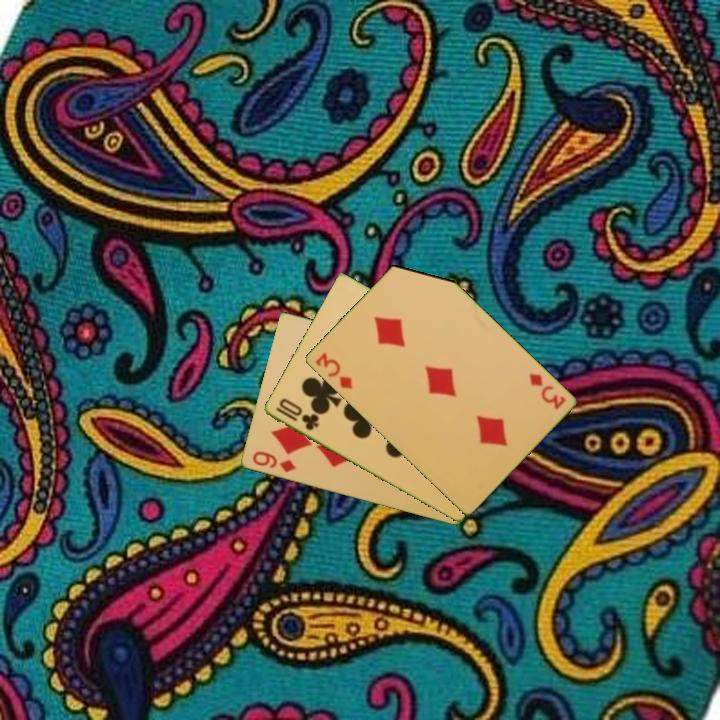10c: (272, 395, 322, 434)
3d: (311, 349, 355, 392), (525, 370, 569, 413)
9d: (249, 448, 298, 476)
